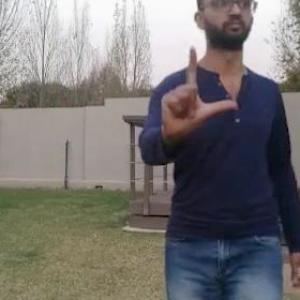land_hand: (156, 39, 242, 142)
